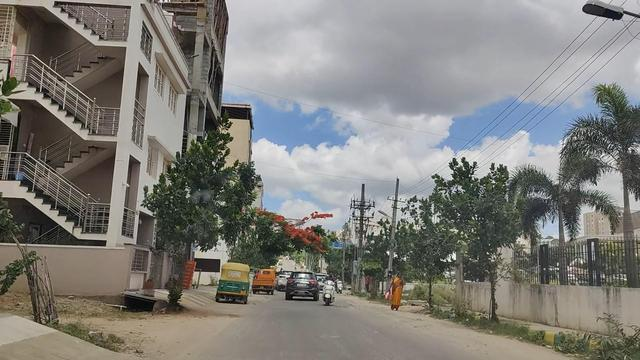RoadDamages: (336, 299, 364, 318)
